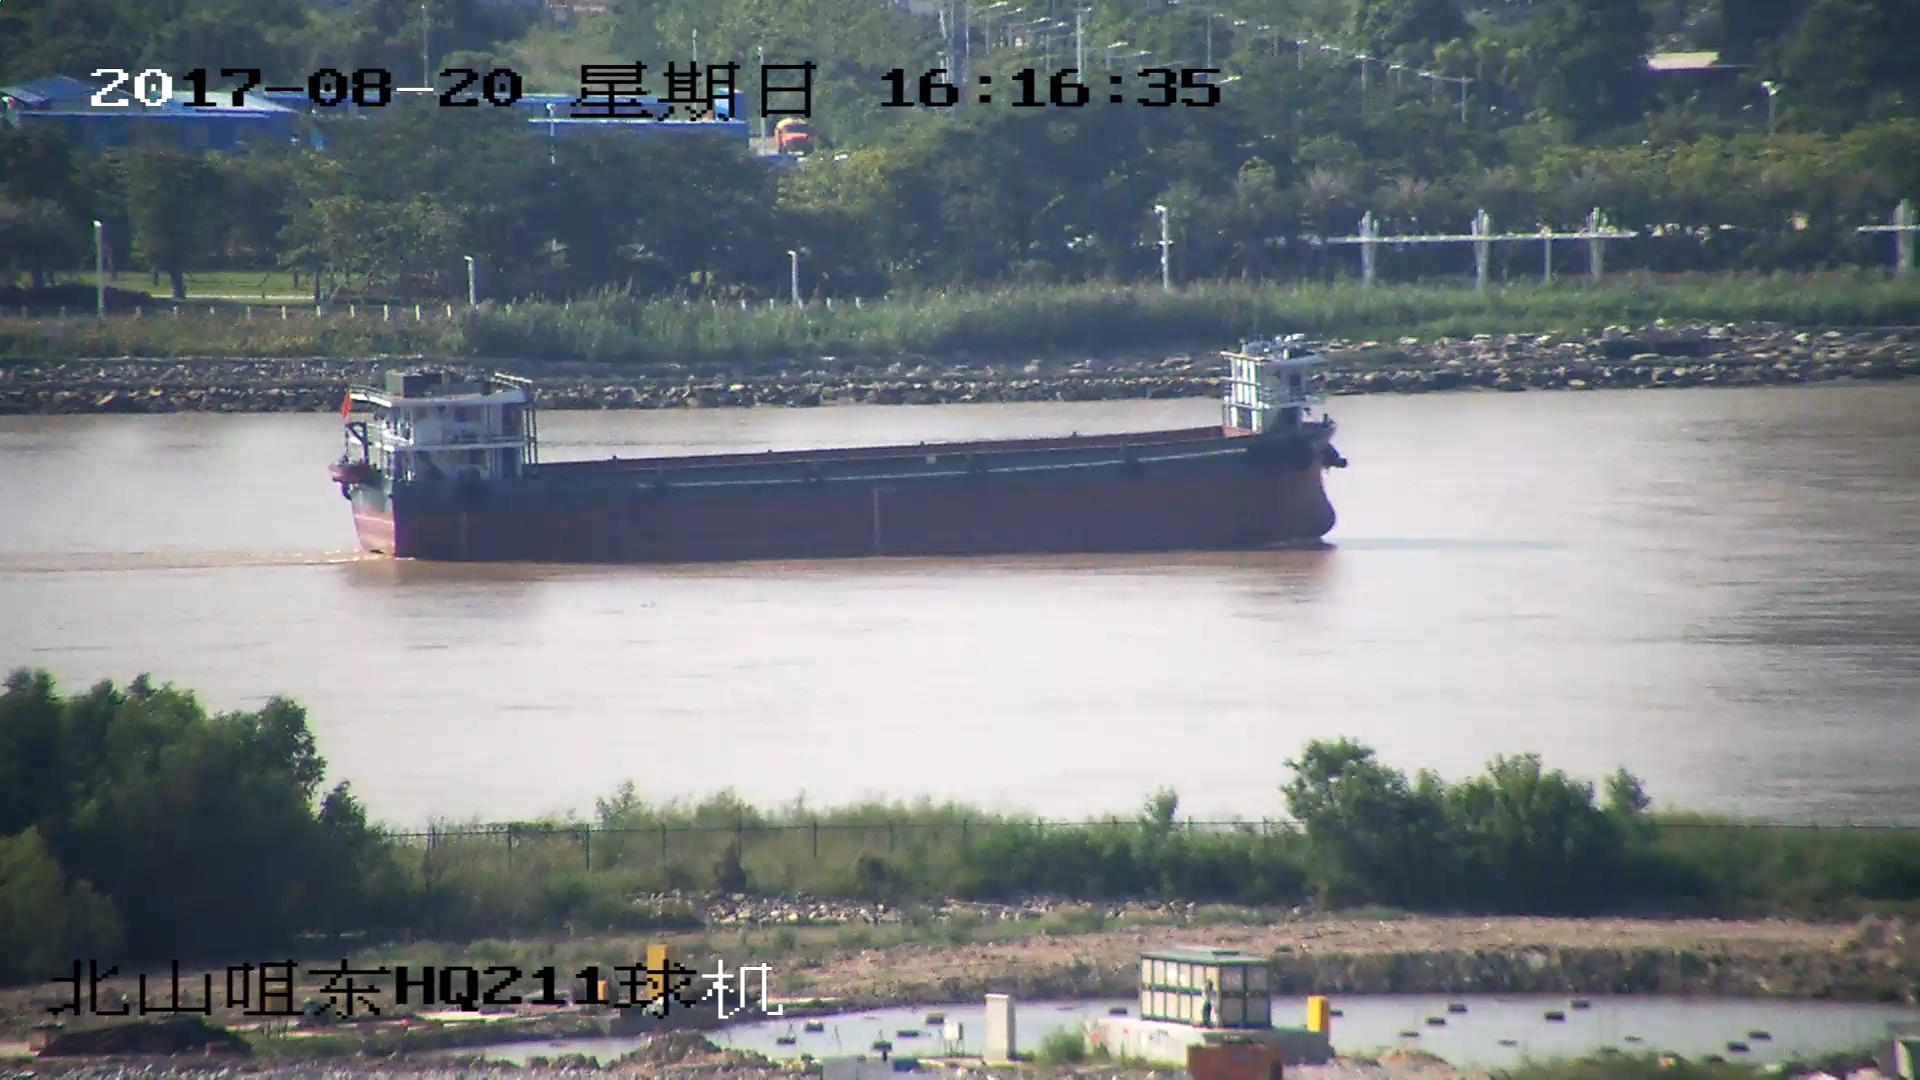general cargo ship: (345, 346, 1345, 554)
